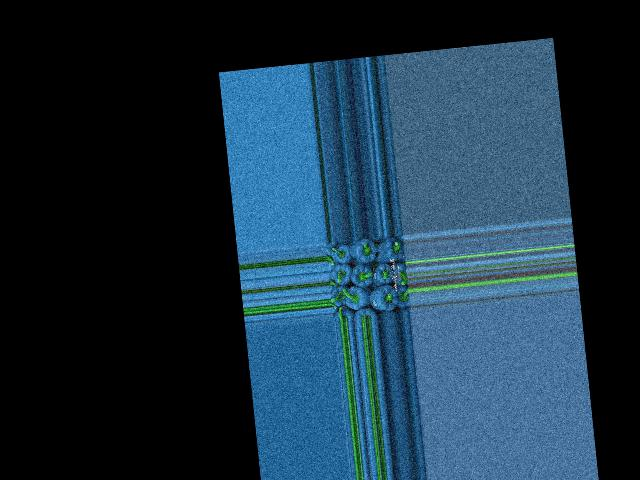bell_pepper: (392, 283, 411, 311)
